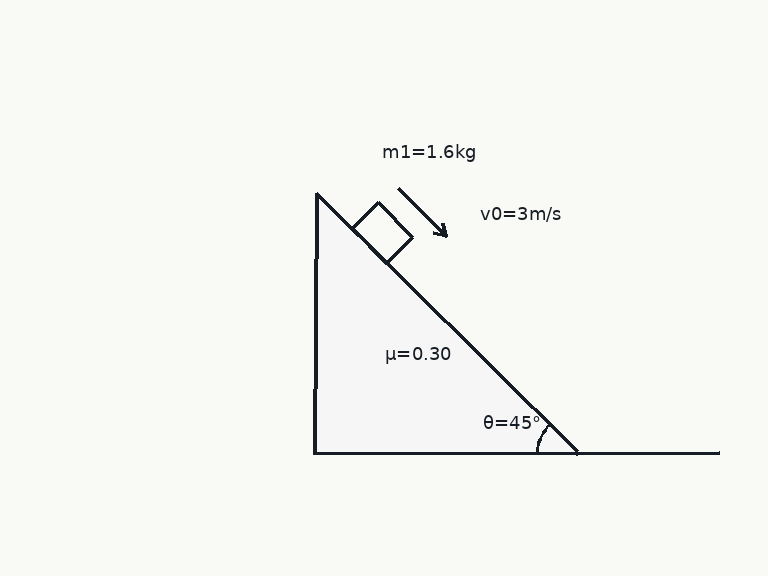block: (350, 201, 414, 265)
ramp: (313, 189, 579, 455)
